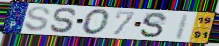7: (112, 10, 136, 37)
I: (173, 13, 192, 41)
O: (81, 8, 112, 36)
S: (139, 12, 169, 39), (49, 7, 78, 34), (23, 6, 53, 32)
